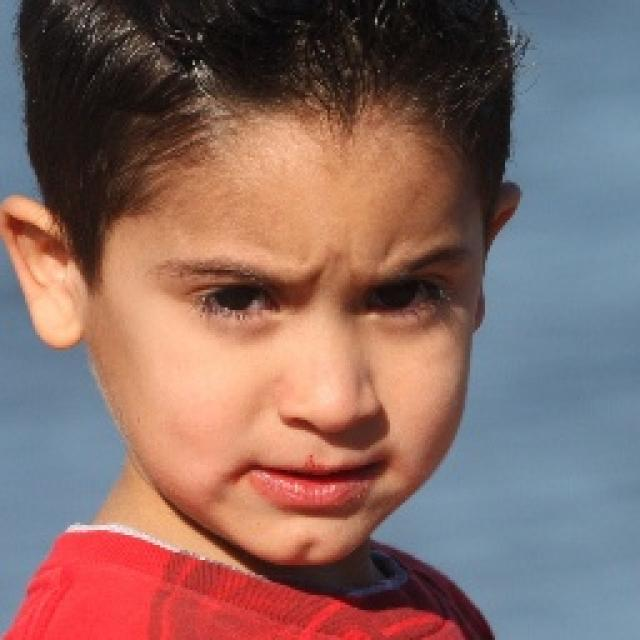earlobe: (28, 305, 84, 351), (469, 301, 488, 337)
eye: (194, 279, 276, 320), (363, 279, 443, 318)
nose: (280, 417, 370, 456)
wholeear: (0, 195, 82, 351), (471, 175, 522, 337)
